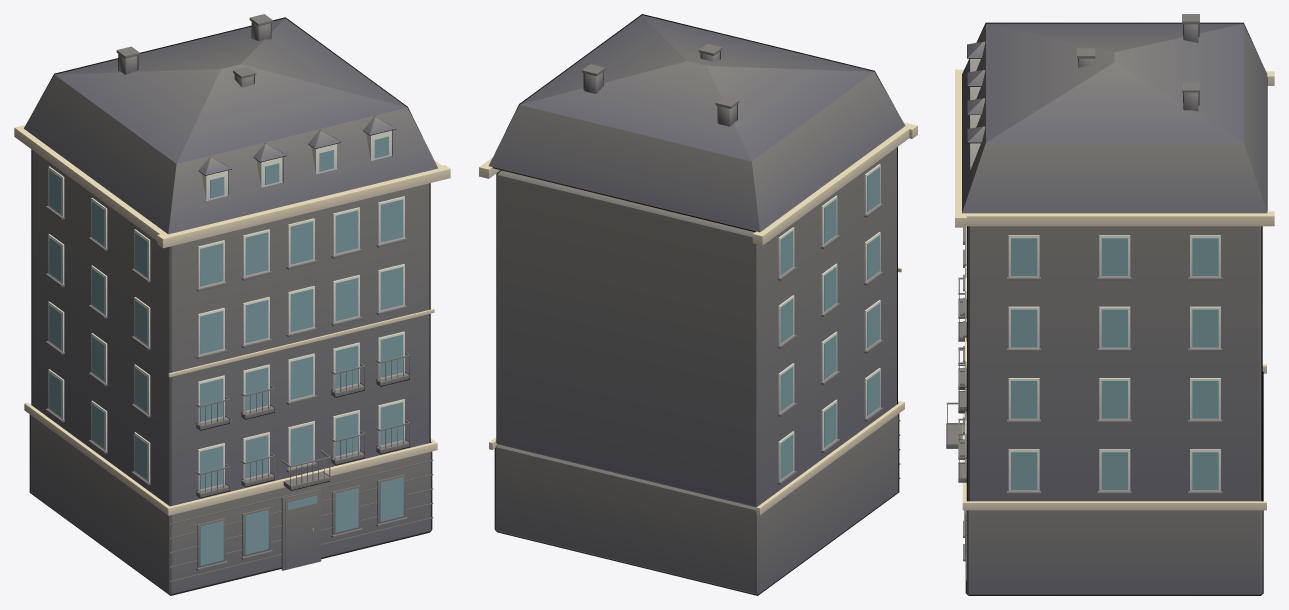
File: Bina_Apartman.fbx
3 renders of one model, left to right at view 1: azimuth 30°, elevation 25°; view 2: azimuth 150°, elevation 25°; view 3: azimuth 270°, elevation 25°, orthographic. The views are drawn at different scales.
Visible parts, largest first — view 1: Bina_Apartman; view 2: Bina_Apartman; view 3: Bina_Apartman.
Part boxes in pixels (bbox=[...]): Bina_Apartman: bbox=[14, 14, 450, 595]; Bina_Apartman: bbox=[479, 14, 917, 595]; Bina_Apartman: bbox=[946, 14, 1274, 595].
Bounding box in the file's own units: 14.7 × 22.09 × 13.75.
3 materials, 1 textured.
